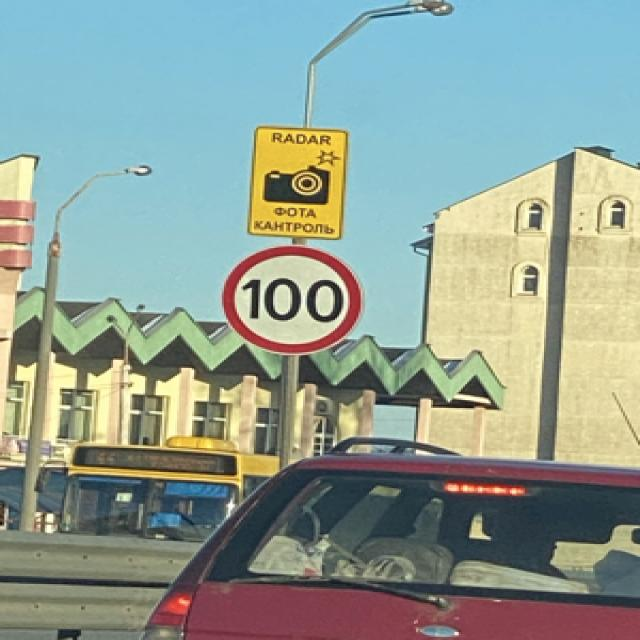speedlimit: (220, 244, 360, 350)
